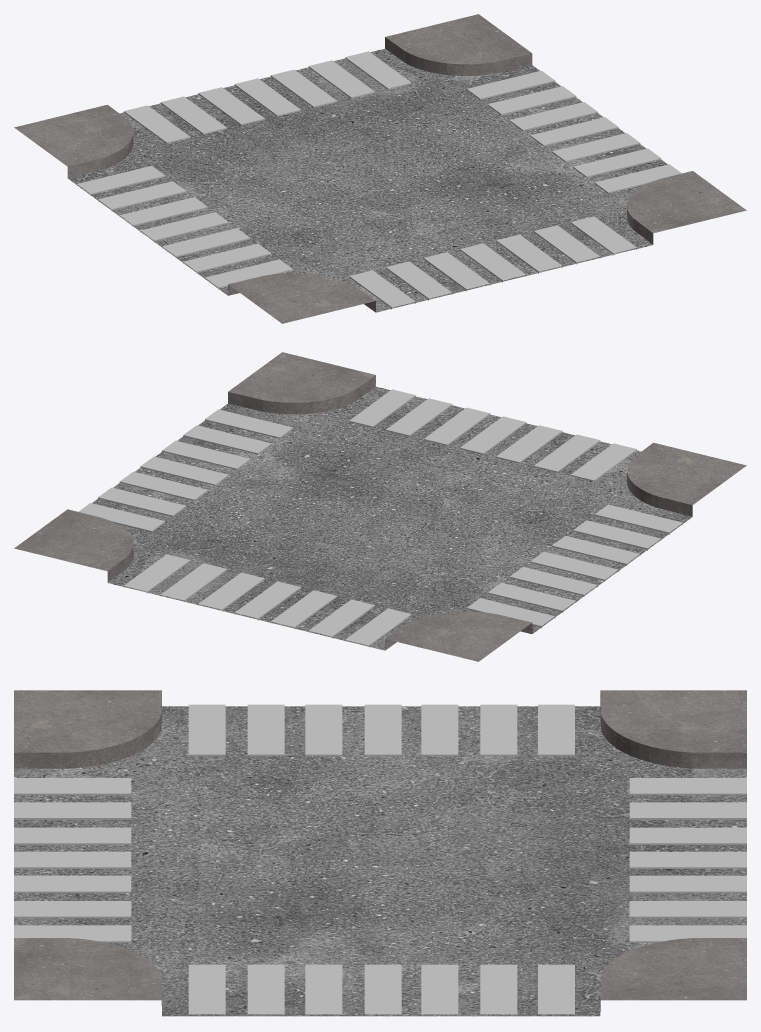
Rendered from 4way_street.fbx.
3 views of the same model, one above another, from view 1: azimuth 30°, elevation 25°; view 2: azimuth 150°, elevation 25°; view 3: azimuth 270°, elevation 25° (orthographic). The views are drawn at different scales.
Visible parts, largest first — view 1: Street_4way; view 2: Street_4way; view 3: Street_4way.
Boxes of the visible parts, x1,y1,x2,y2 form: Street_4way: (14,14,746,323); Street_4way: (14,352,746,661); Street_4way: (14,690,746,1016).
Size of the model in its own units: 10 by 10 by 0.2605.
3 materials, 2 textured.
